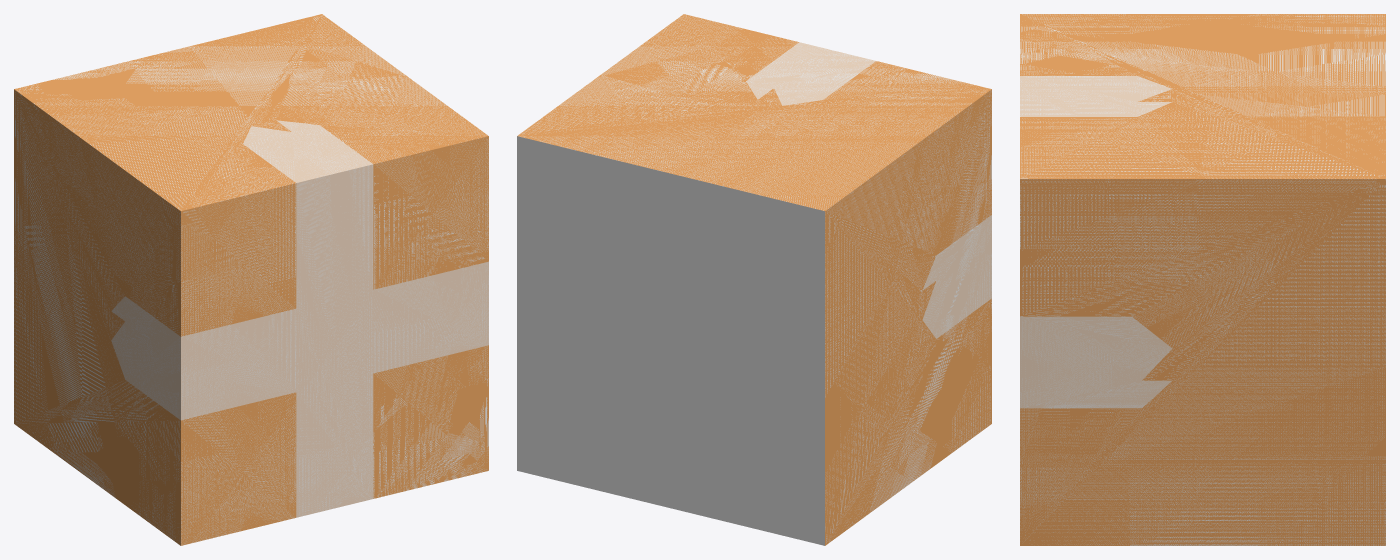
The picture shows the model from 3 angles, left to right: view 1: azimuth 30°, elevation 25°; view 2: azimuth 150°, elevation 25°; view 3: azimuth 270°, elevation 25°; orthographic projection. The views are drawn at different scales.
Parts seen in each view (by area): view 1: cardboard box; view 2: cardboard box; view 3: cardboard box.
Boxes of the visible parts, x1,y1,x2,y2 form: cardboard box: (14,14,488,545); cardboard box: (517,14,991,545); cardboard box: (1020,14,1385,545).
Size of the model in its own units: 23.06 by 23.94 by 21.62.
